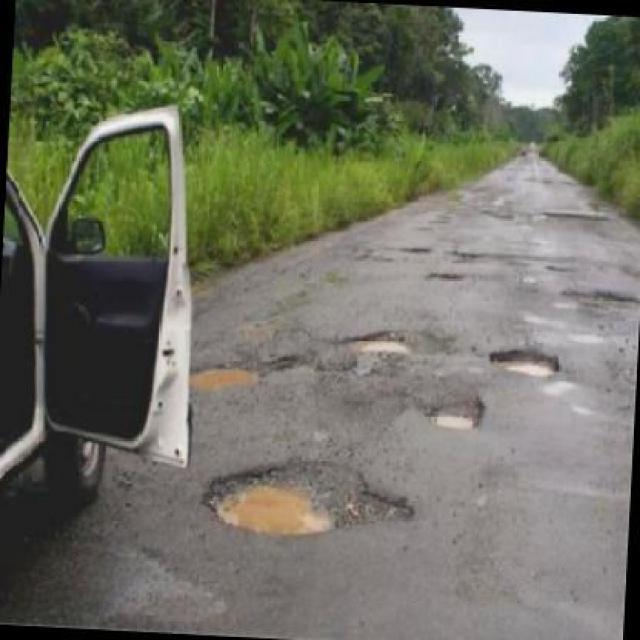Pothole: (203, 459, 421, 544), (191, 358, 269, 398), (480, 346, 562, 381), (425, 390, 486, 434), (340, 328, 417, 361)
